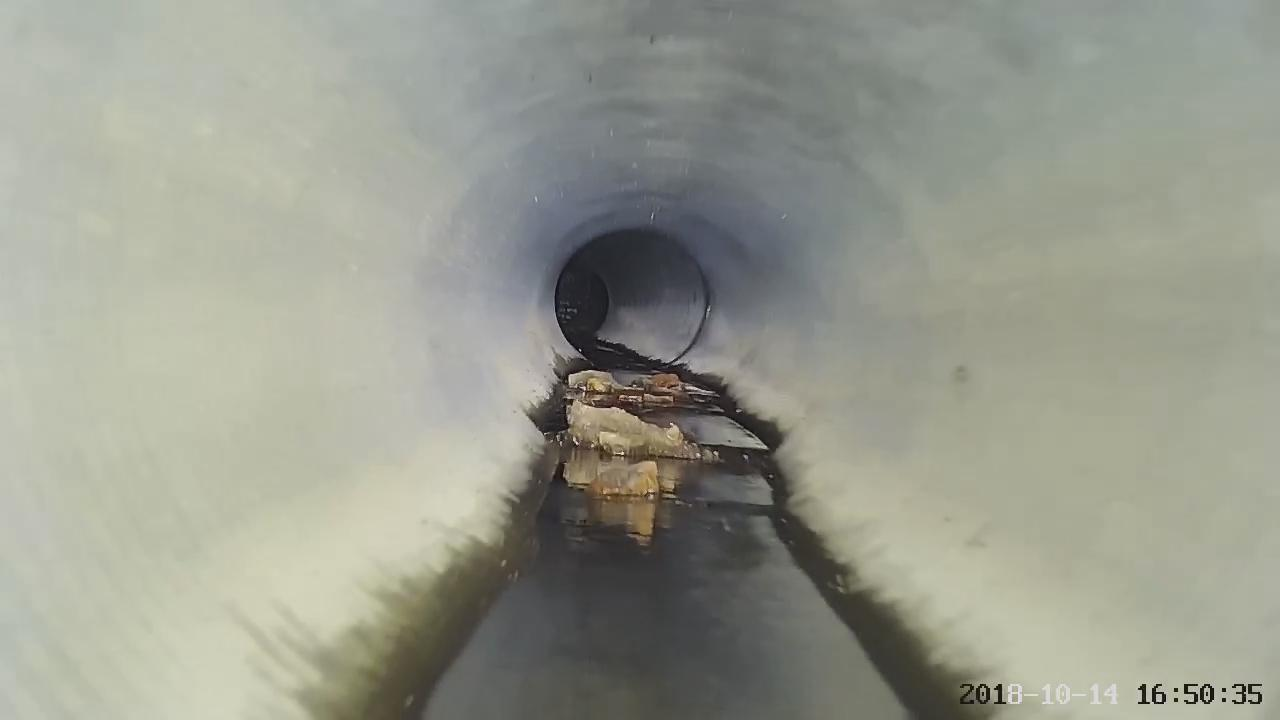ZAW: (556, 370, 766, 499)
